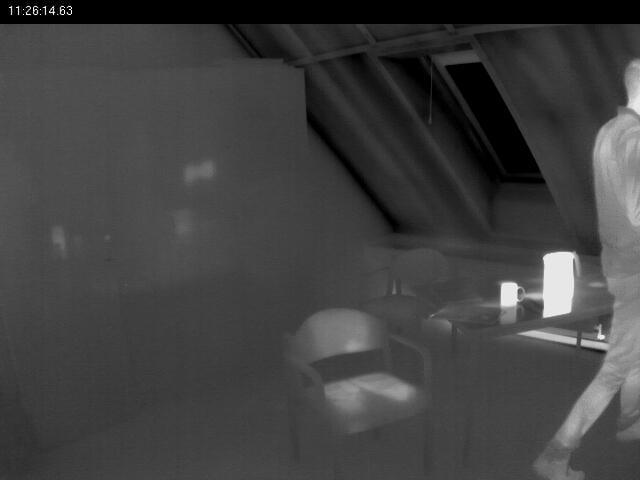person: (536, 56, 640, 480)
